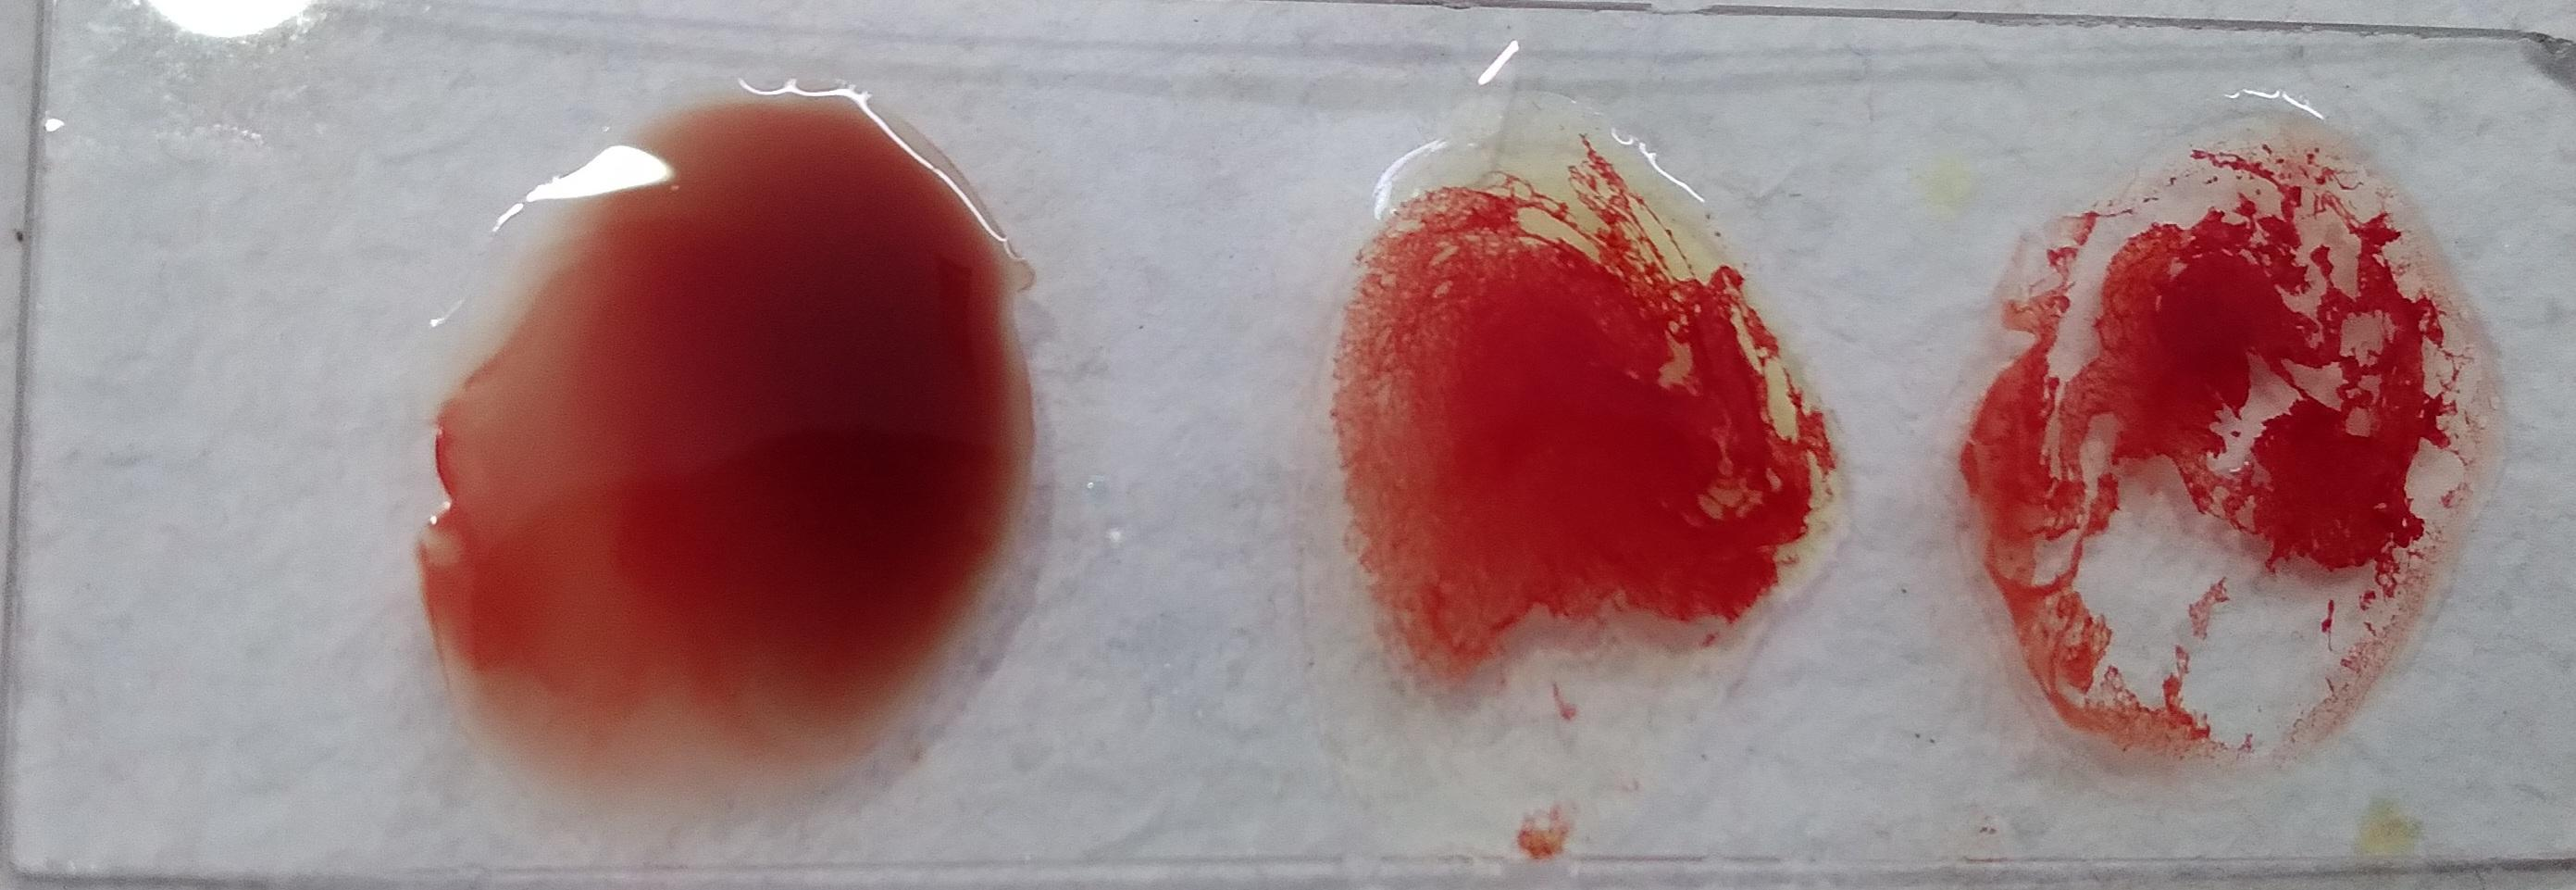B: (731, 181, 1268, 801)
D: (97, 100, 590, 788)
